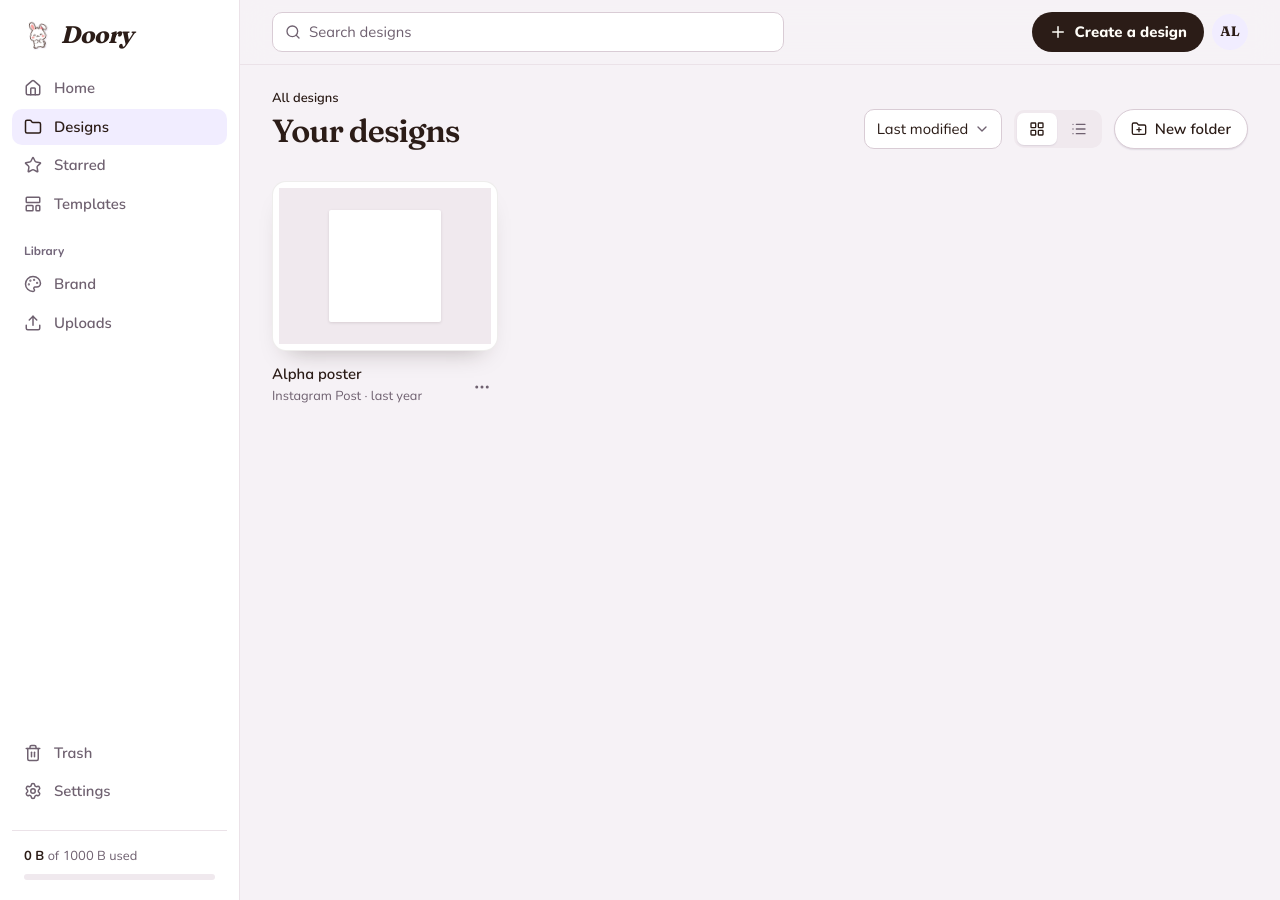
Scenario: designs page › rolls the card back and explains when trashing fails
What coordinates should you click on to do the following:
click the button named "More actions for Alpha poster"
I would click on:
 (482, 387)
Its box is [466,371,498,403].
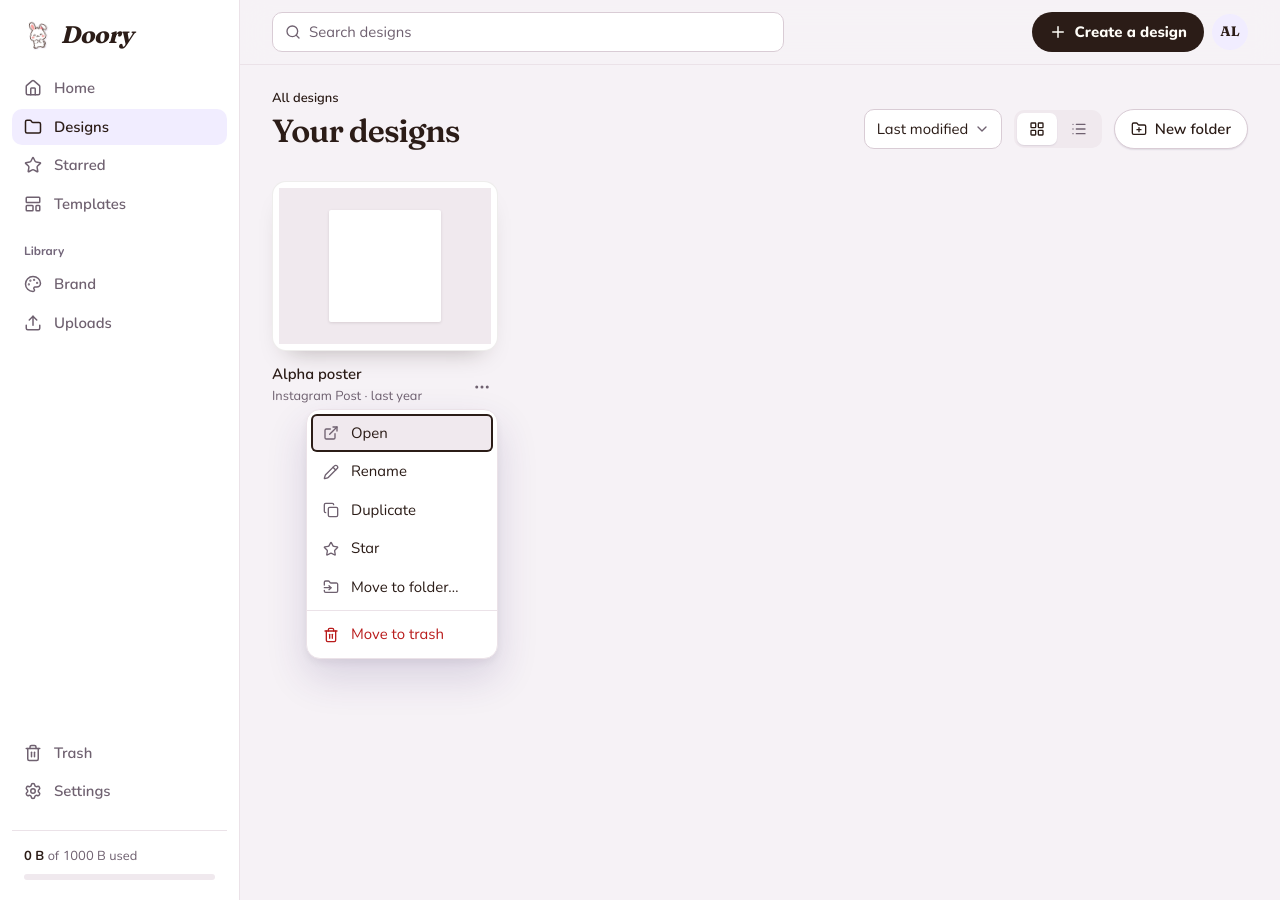
What coordinates should you click on to do the following:
click the menu item "Move to trash"
I would click on:
 (402, 635)
Its box is [311,615,493,654].
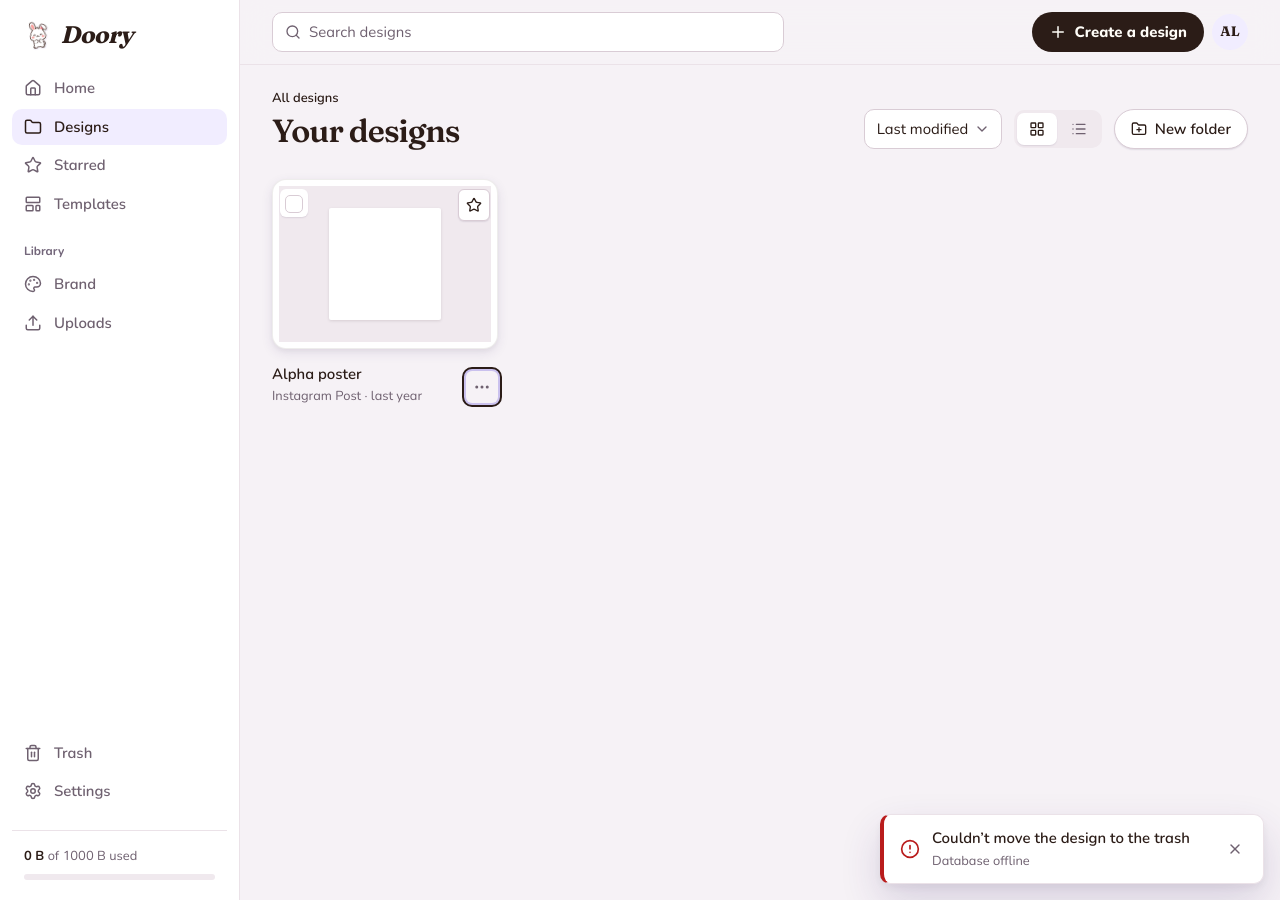
Expected: the link "Alpha poster" is shown, [272,364,362,384]
Result: the text "Couldn’t move the design to the trash" is shown at [932,827,1207,850]
